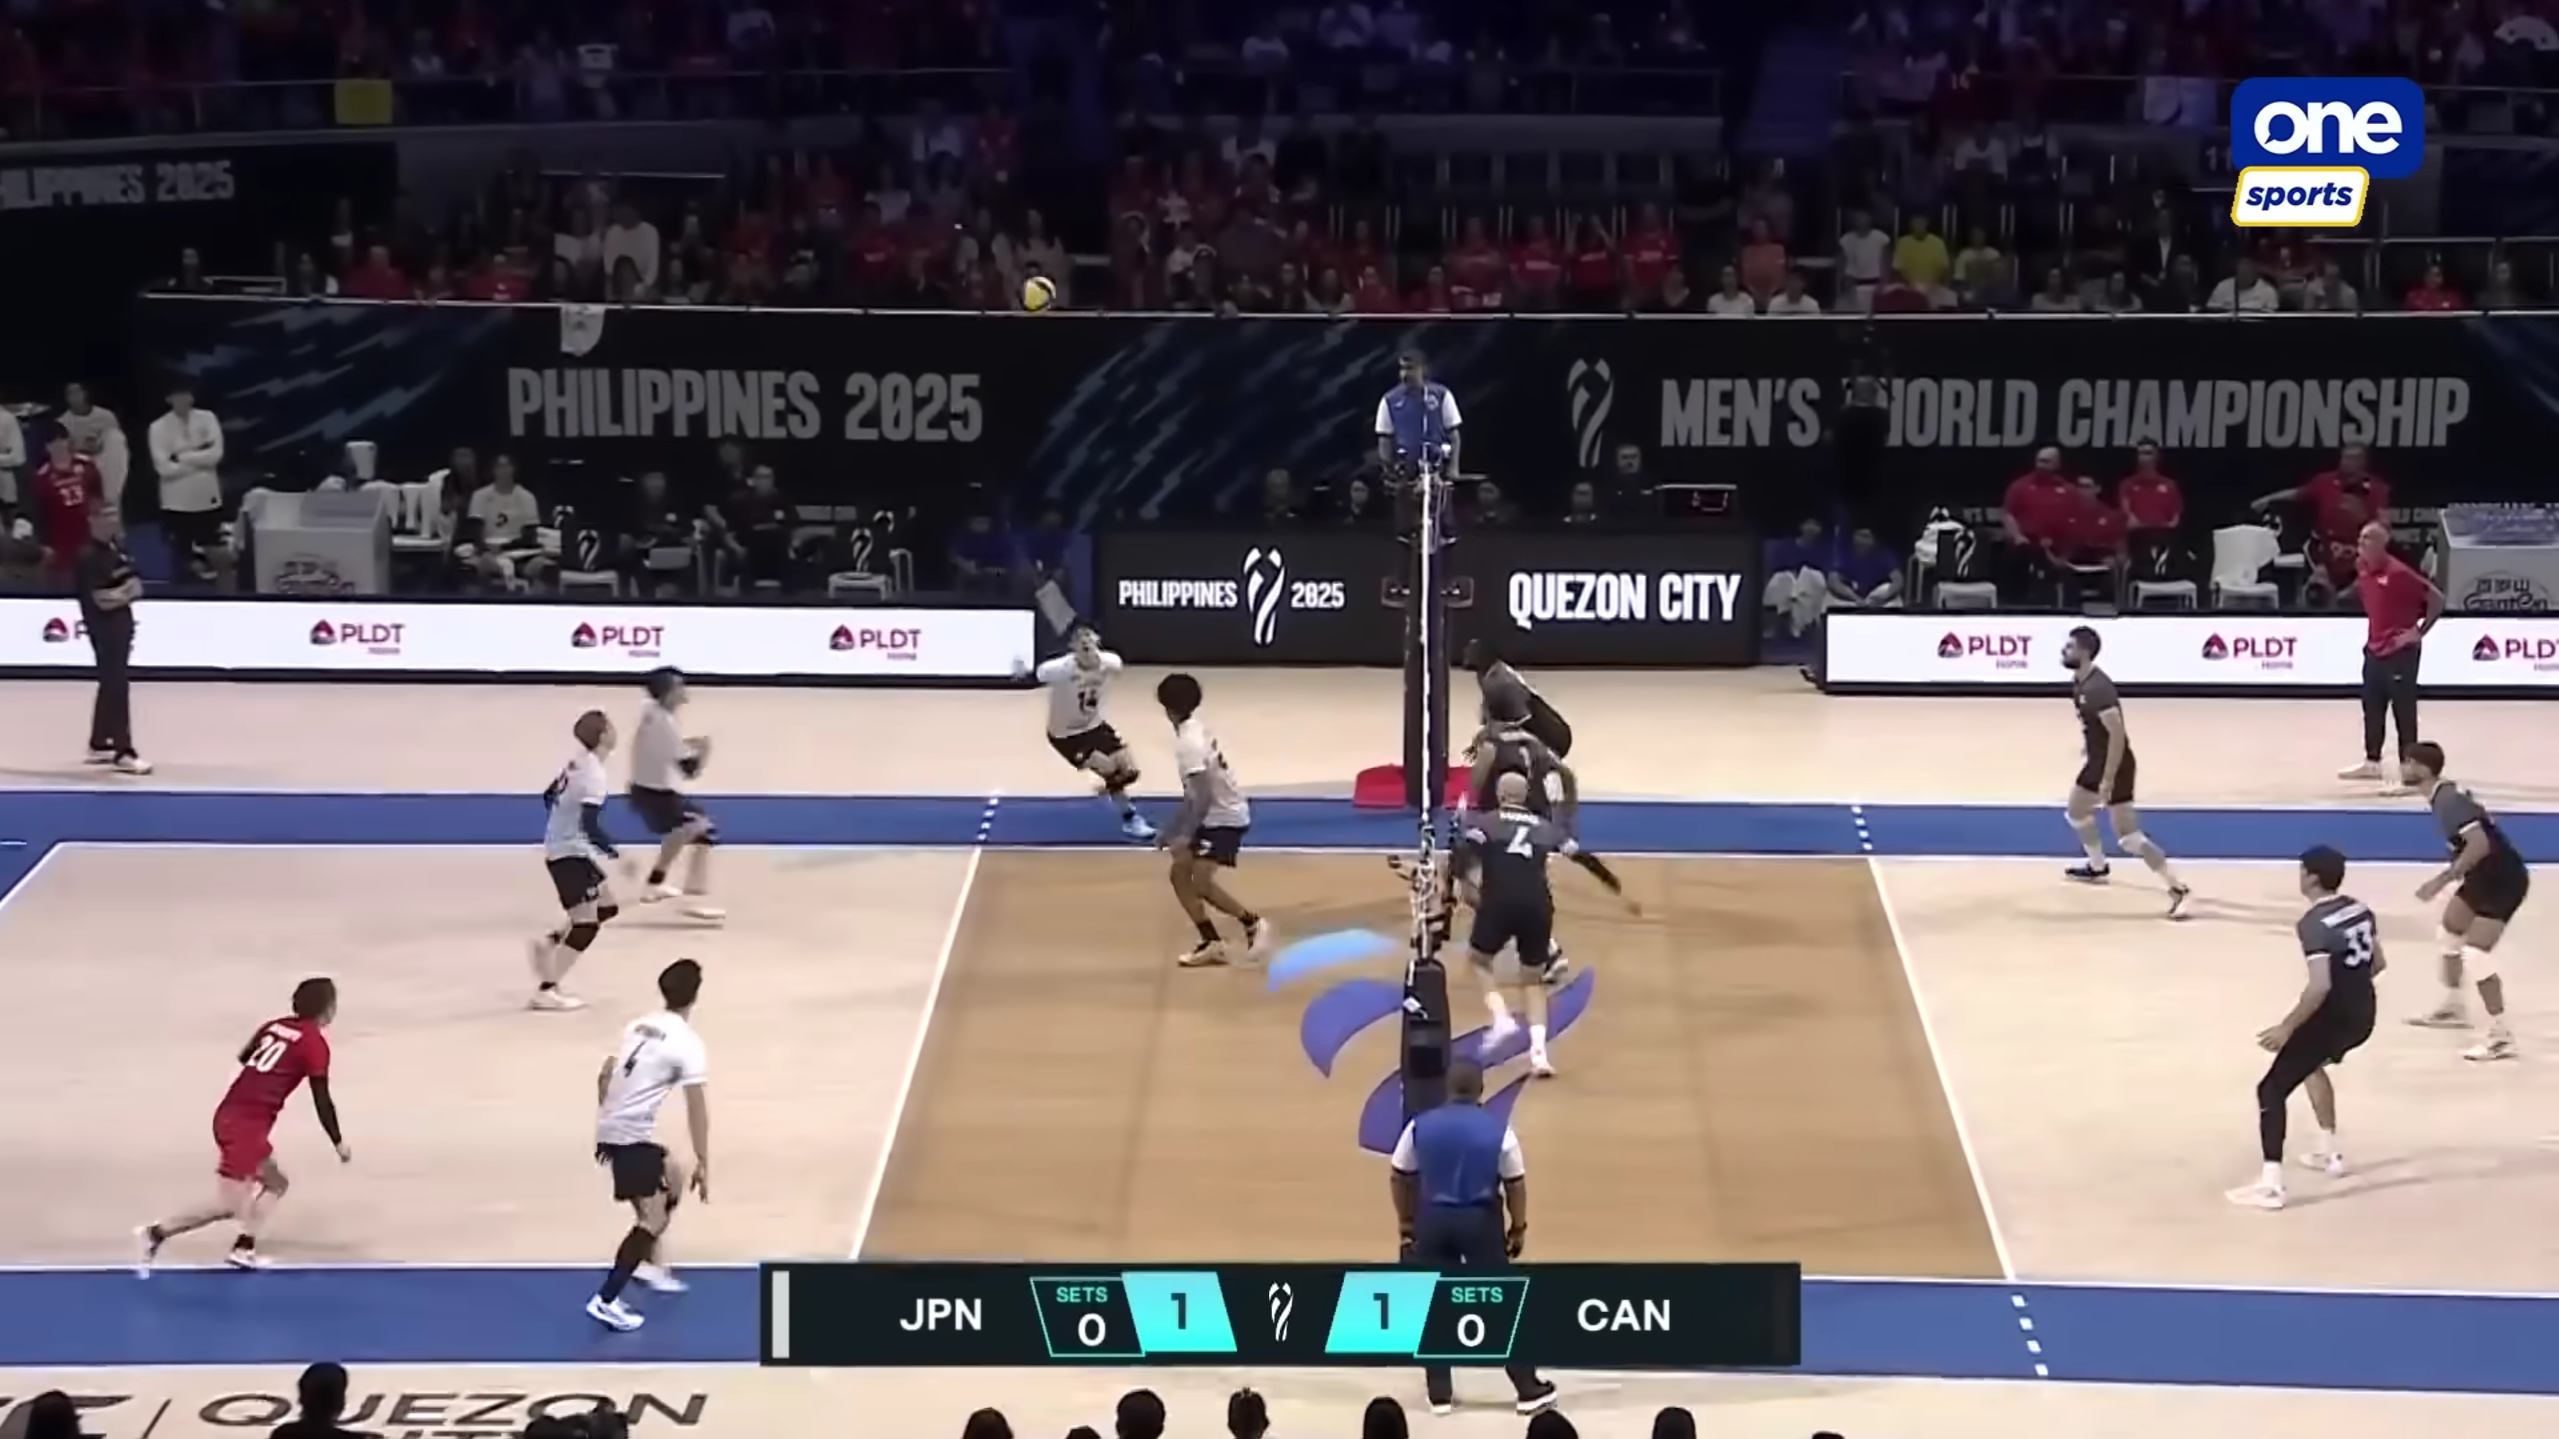Ball: (1018, 272, 1058, 316)
